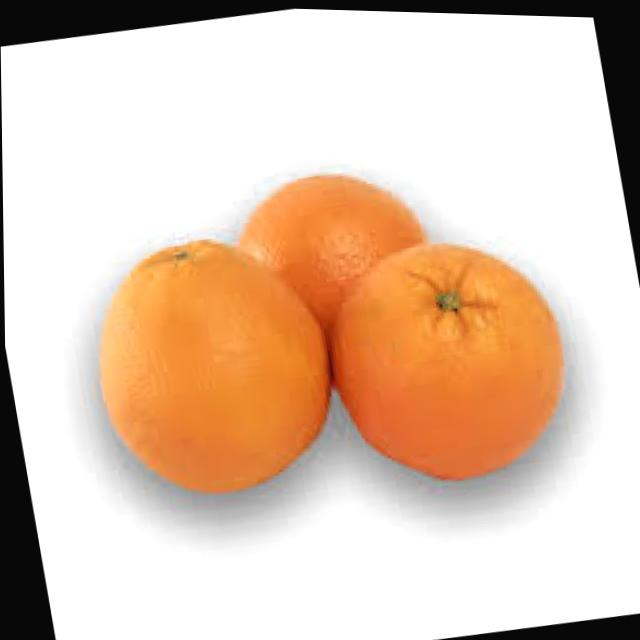orange: (69, 217, 355, 515), (314, 219, 580, 496), (225, 155, 439, 346)
